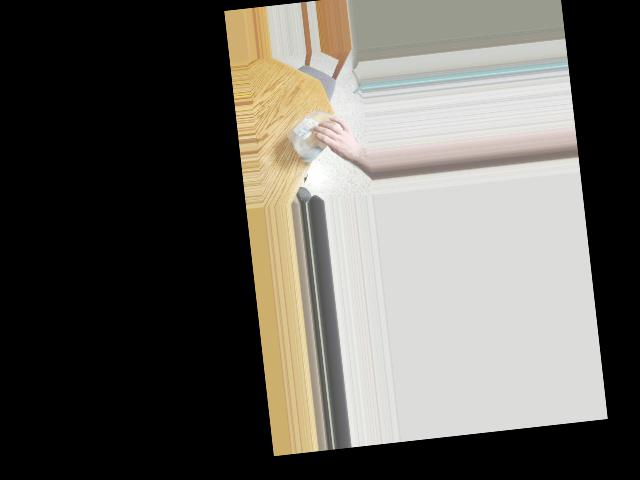cheese: (282, 105, 350, 163)
